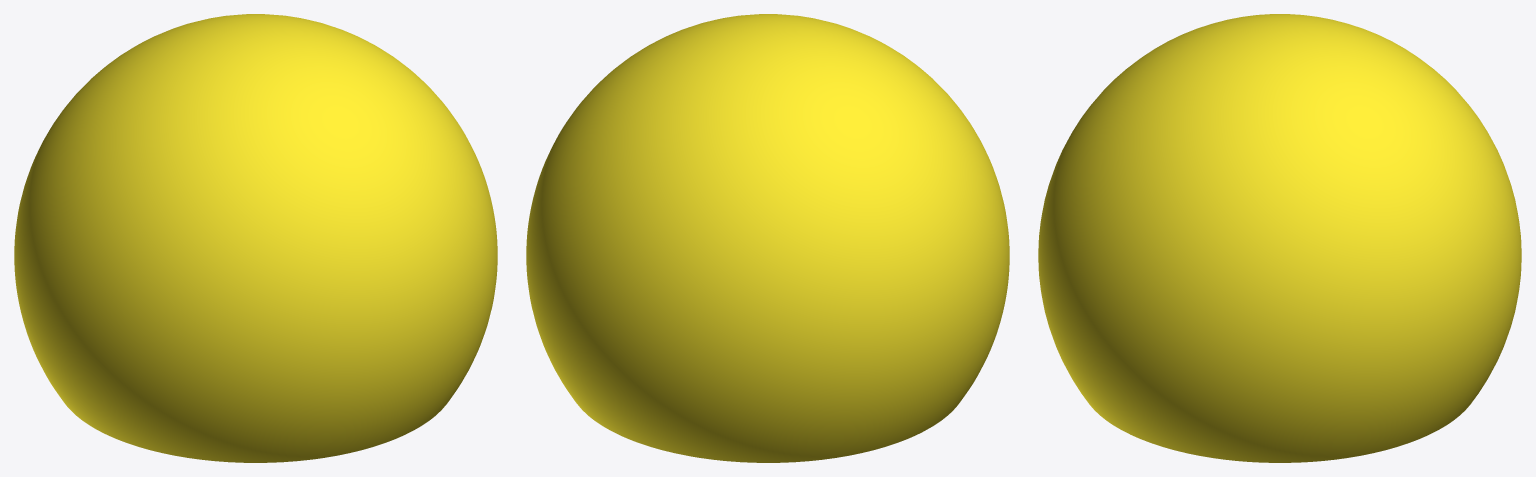
File: Bolletje 2.5cm.glb
3 renders of one model, left to right at view 1: azimuth 30°, elevation 25°; view 2: azimuth 150°, elevation 25°; view 3: azimuth 270°, elevation 25°, orthographic.
Size of the model in its own units: 0.025 by 0.0195 by 0.025.
